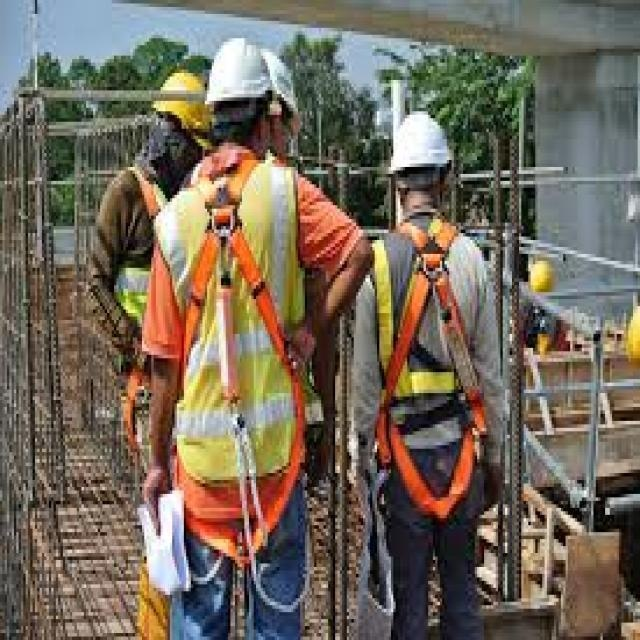Arnes_seguridad: (170, 147, 309, 560), (370, 218, 493, 524)
